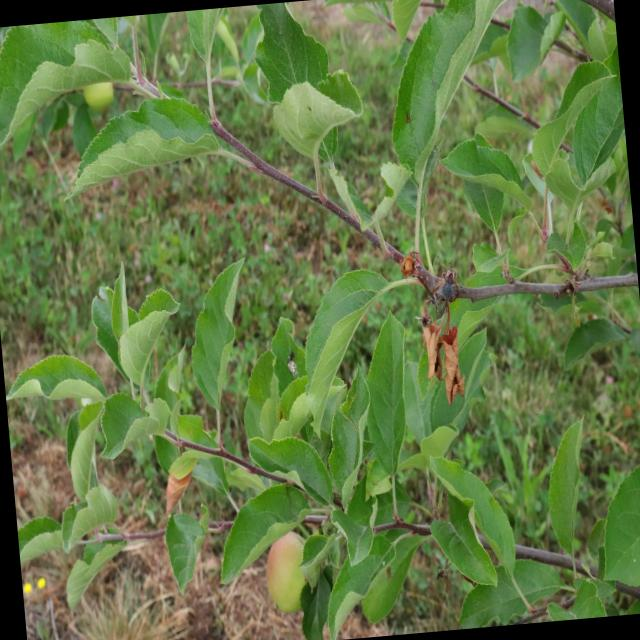-FireBlight-: (421, 288, 465, 402)
